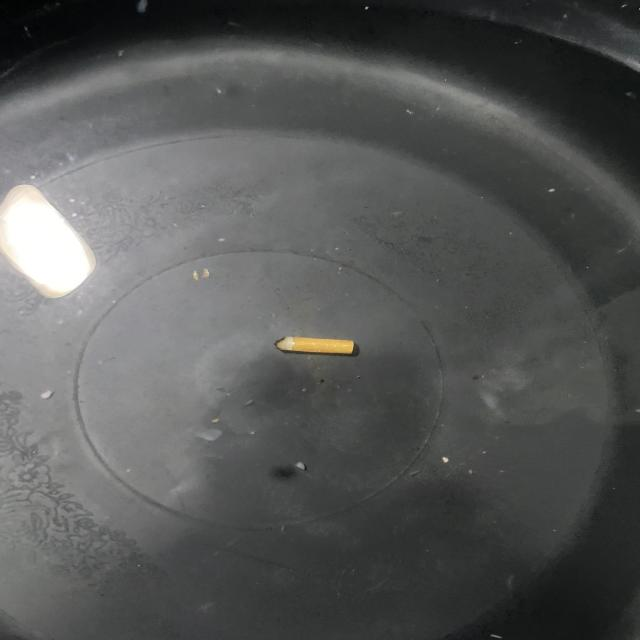Cigarette Filter: (263, 312, 365, 377)
